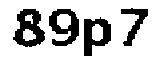7: (118, 6, 157, 51)
8: (11, 6, 45, 50)
9: (45, 5, 80, 50)
p: (81, 18, 113, 60)
